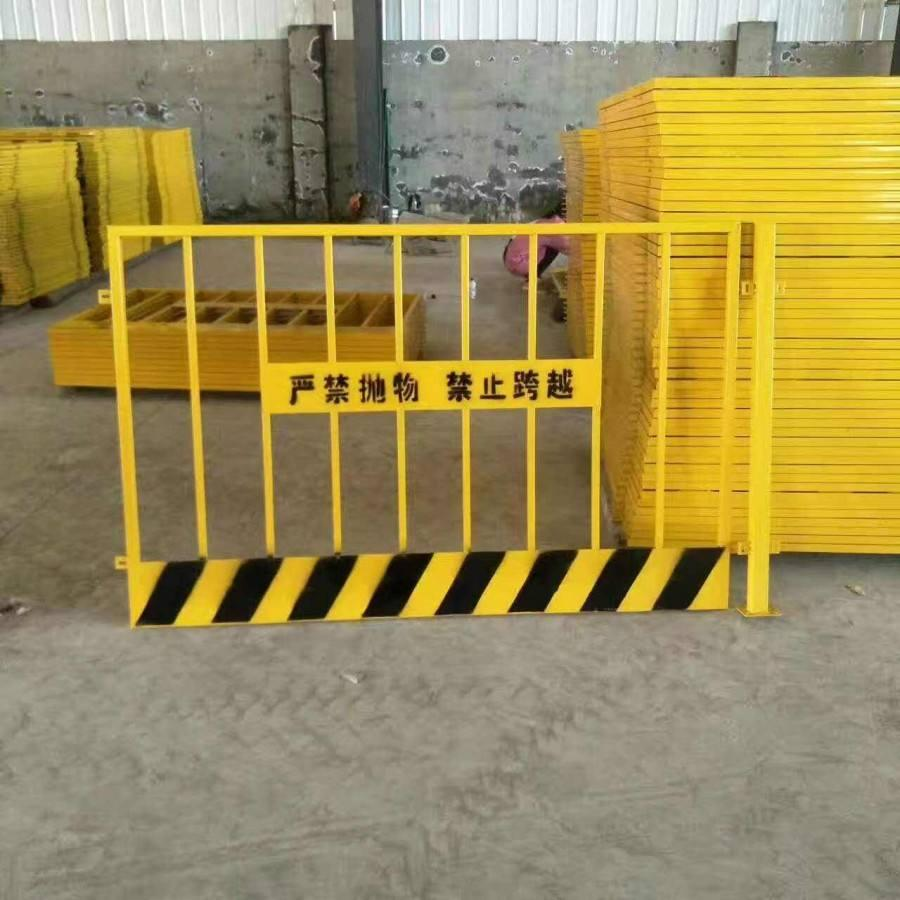sign: (95, 214, 800, 632)
